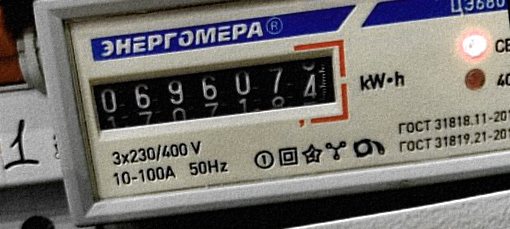0: (97, 86, 121, 116), (232, 67, 254, 98), (132, 82, 152, 110)
4: (299, 72, 320, 102)
6: (198, 71, 219, 103)
7: (265, 64, 287, 95)
9: (165, 77, 186, 107)
screen: (73, 35, 355, 151)
